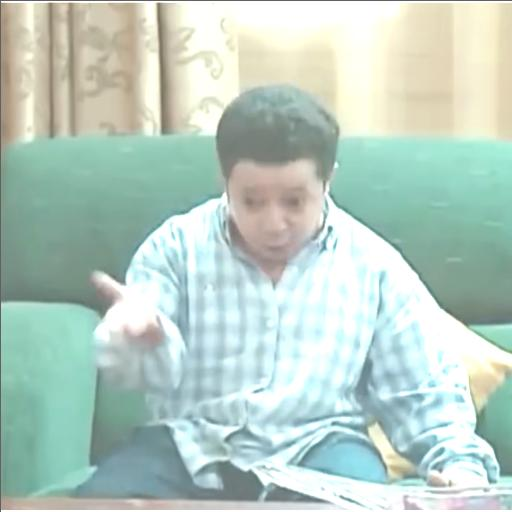fouchika: (216, 84, 338, 261)
